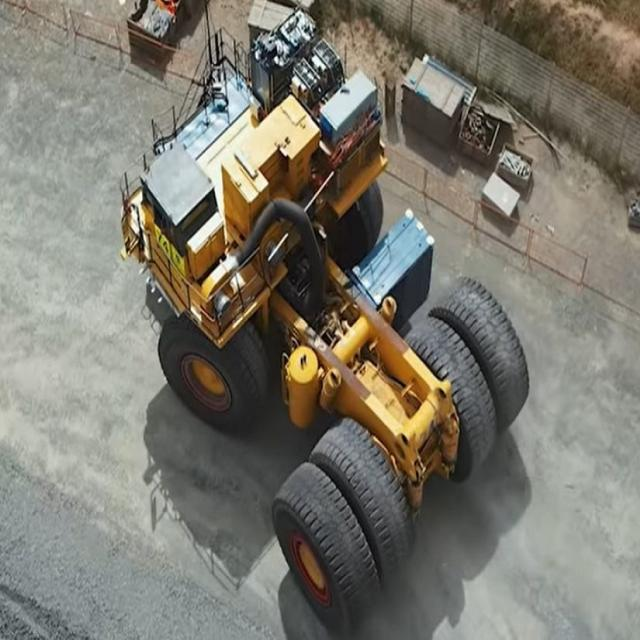dump_truck: (94, 19, 513, 486)
